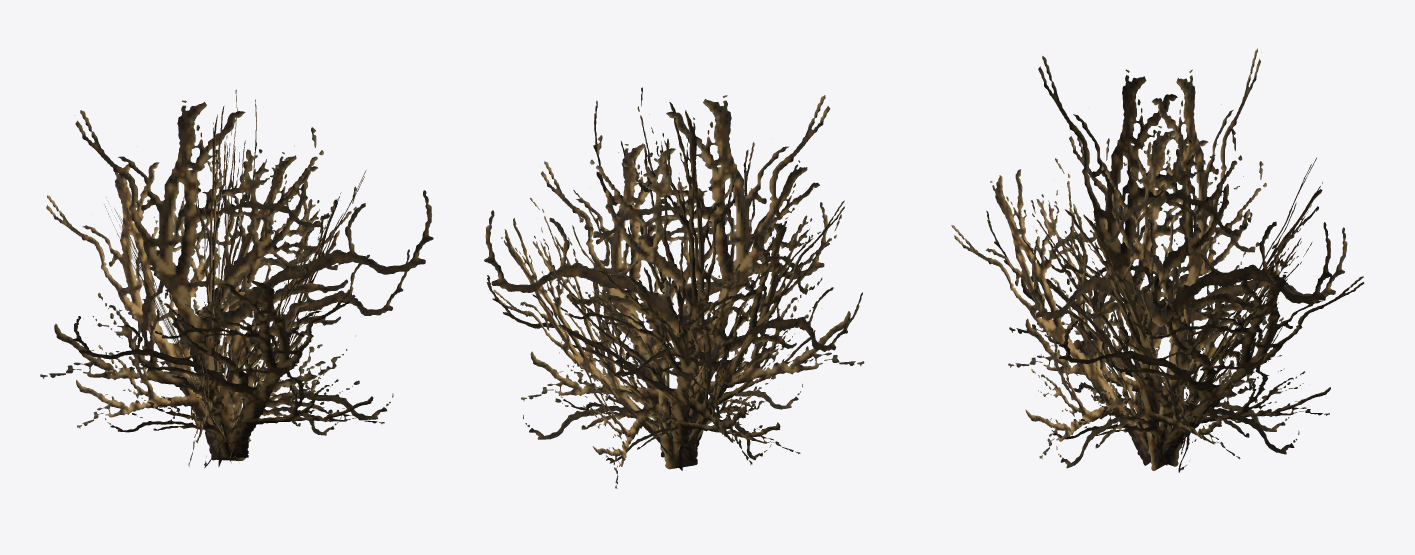
The model's file is mbushnak_0.obj.
The picture shows the model from 3 angles, left to right: view 1: azimuth 30°, elevation 25°; view 2: azimuth 150°, elevation 25°; view 3: azimuth 270°, elevation 25°; orthographic projection. The views are drawn at different scales.
Parts seen in each view (by area): view 1: mbushnak_0; view 2: mbushnak_0; view 3: mbushnak_0.
Part boxes in pixels (<box>): mbushnak_0: <box>40,89,433,468</box>; mbushnak_0: <box>484,87,864,488</box>; mbushnak_0: <box>951,48,1364,472</box>.
Size of the model in its own units: 2.67 by 2.64 by 2.88.
